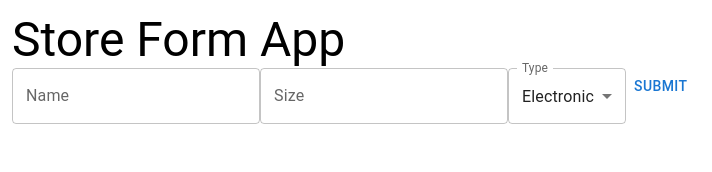
Test case: Create product page › form validations › should remove the validation message when the user fills the form and clicks on submit
The image size is (712, 172).
Click the button "Submit" at (661, 86), box [626, 68, 695, 104]
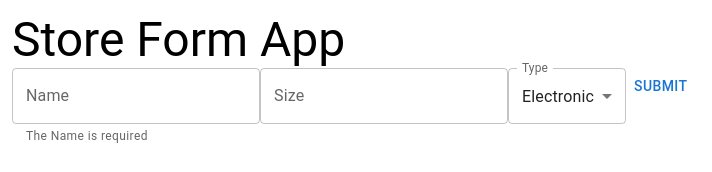
Now the text "The Name is required" is shown, box [26, 129, 148, 143]
Type "foo" into the field labelled "Name" at (136, 96), box [12, 68, 260, 124]
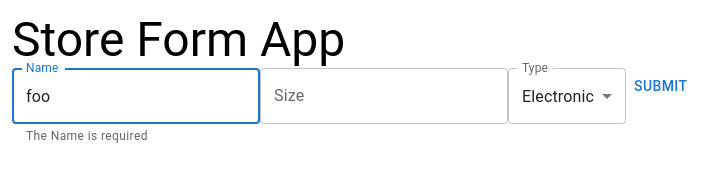
Click the button "Submit" at (661, 86), box [626, 68, 695, 104]
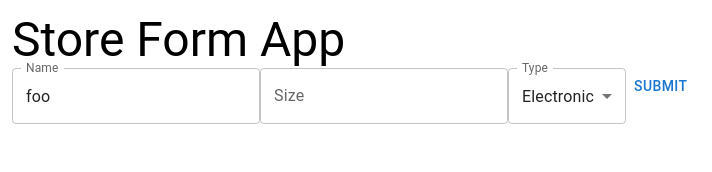
Now the text "The Name is required" is gone
